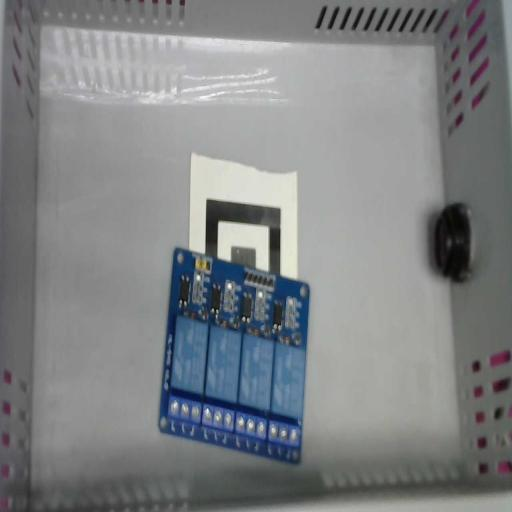relay_module: (157, 247, 310, 467)
